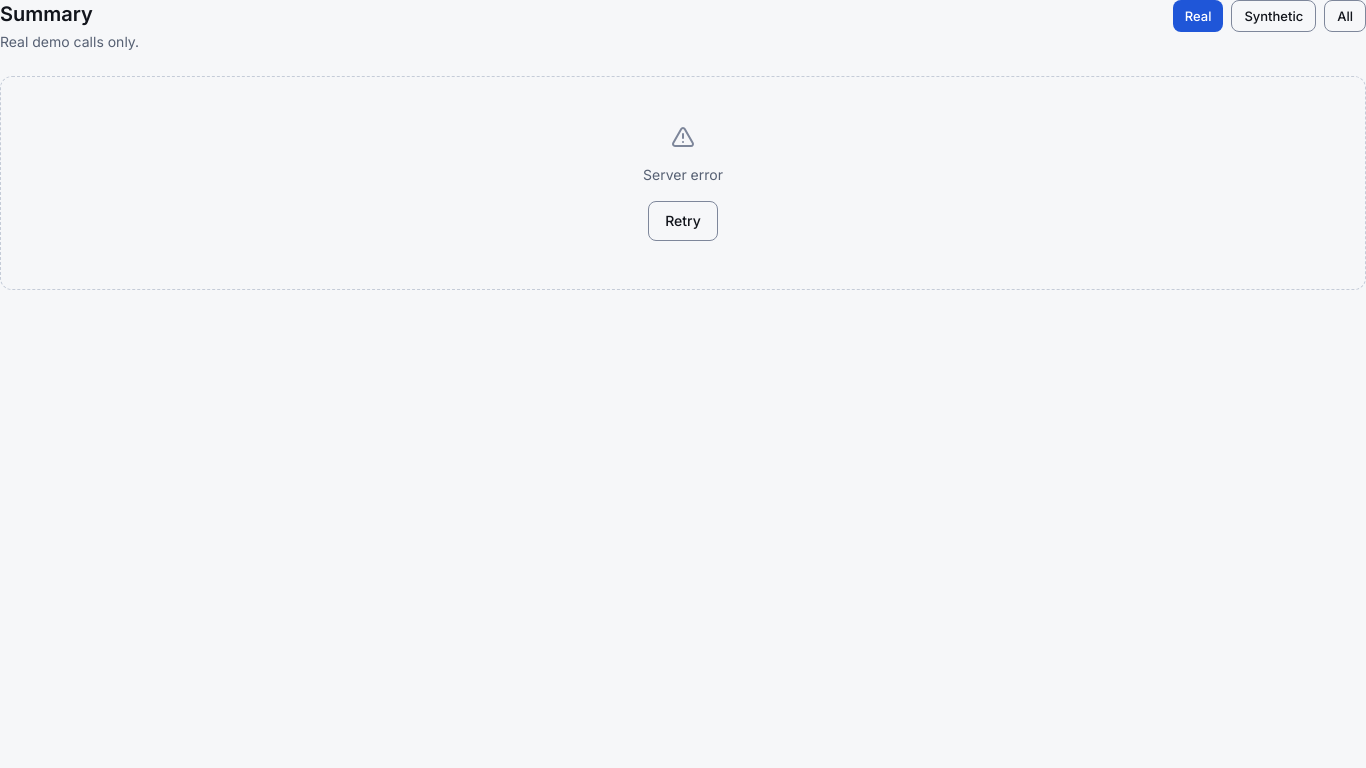
summary page › shows an error state and retries
The width and height of the screenshot is (1366, 768).
Expected: the message shows "Server error", top-left (643, 166), bottom-right (723, 183)
Step 1. Click the button "Retry" → (683, 221), box top-left (648, 201), bottom-right (718, 241)
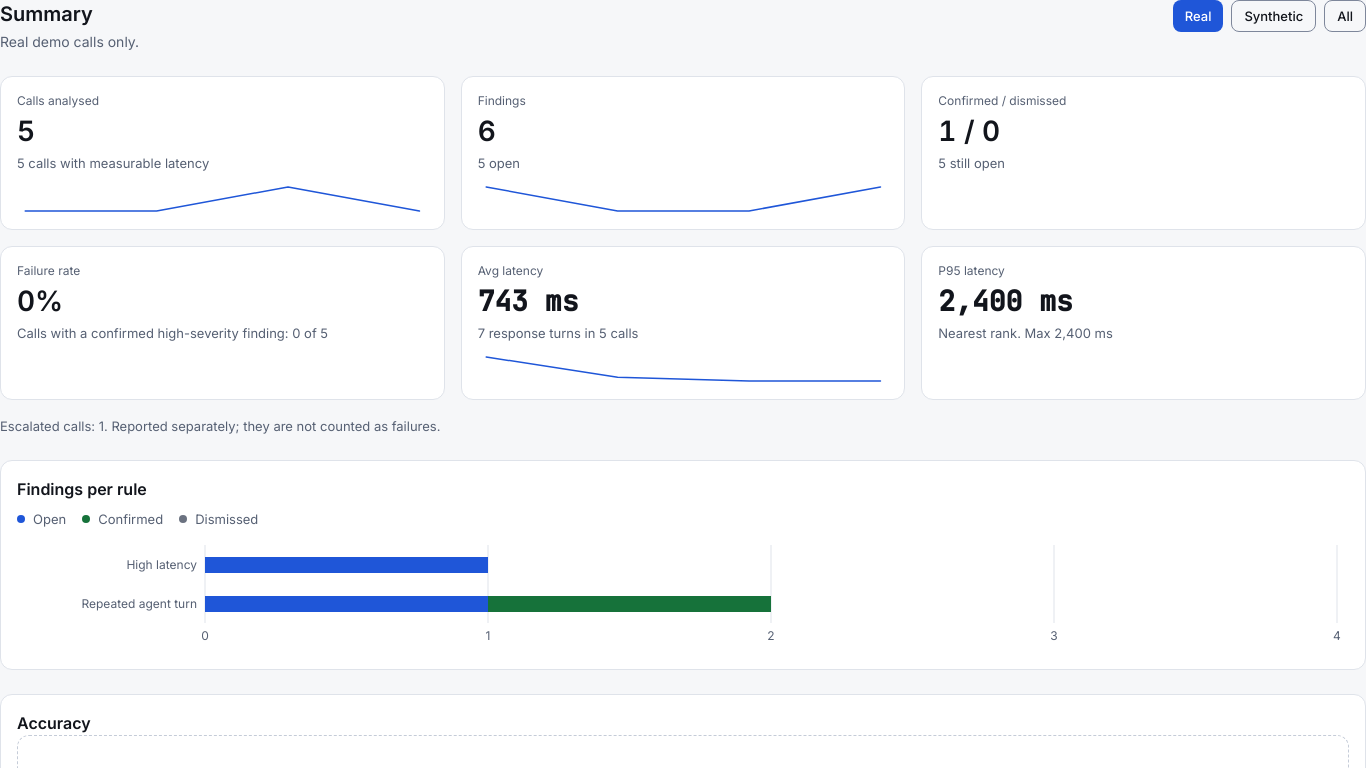
Now the text "Calls analysed" is shown, box top-left (17, 93), bottom-right (99, 108)
